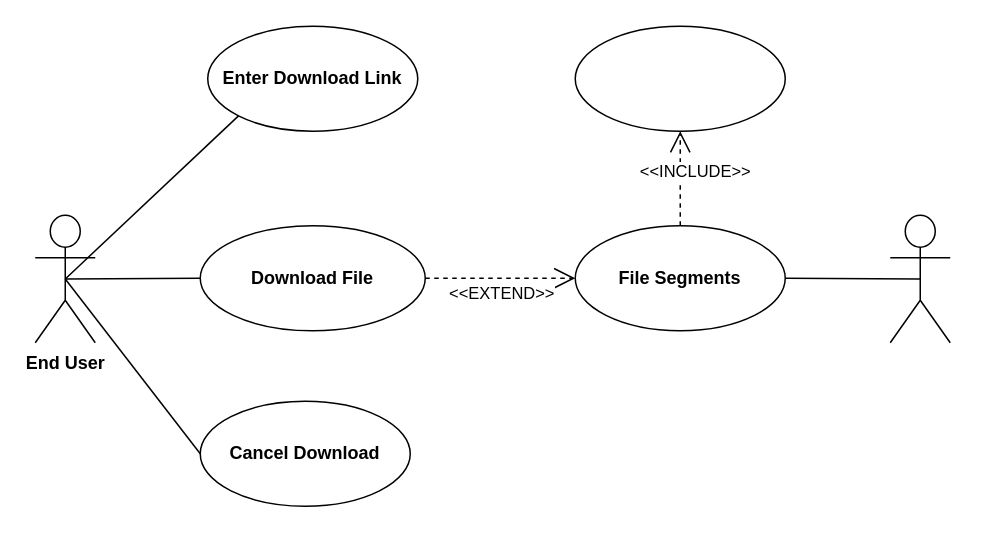
This 983x533 diagram has some shape labels left out. Each missing label, with the centre of its shape:
"Machine" goes at [919,278].
"Validate Segment" goes at [679,78].
